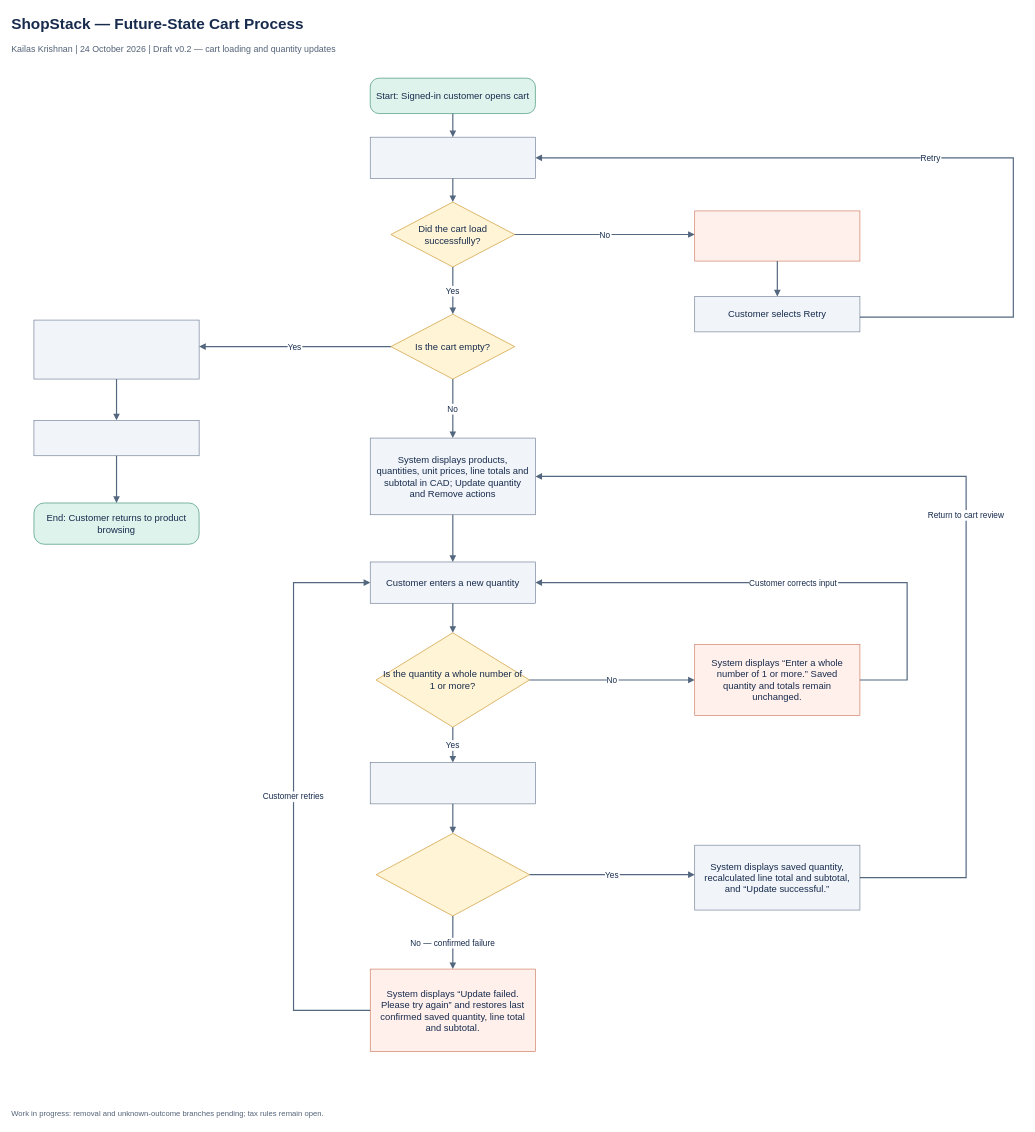
Some shapes in this 1035 by 1132 pixel diagram are drawn without their labels. Each missing label, with the box of its shape:
Customer selects Continue shopping: (33, 420, 199, 456)
System attempts to load saved cart: (370, 137, 535, 178)
System attempts to save the new quantity: (370, 762, 535, 804)
System displays: “Couldn’t load your cart. Please try again.”: (694, 210, 860, 261)
System shows “Cart is empty,” subtotal CAD 0.00, and Continue shopping: (33, 319, 199, 379)
Was the quantity update saved successfully?: (376, 833, 530, 916)
